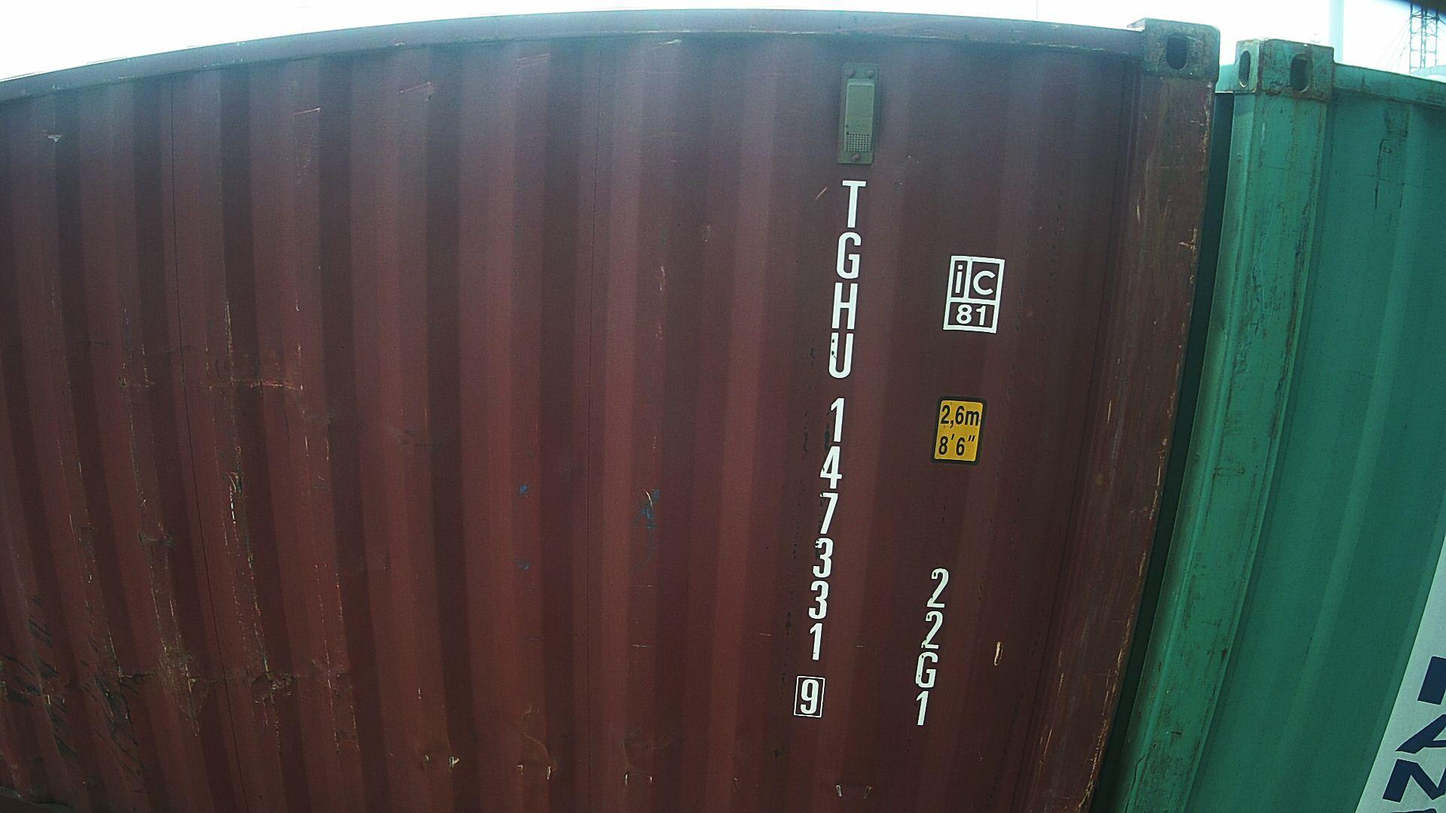container-numbers: (790, 174, 868, 723), (910, 562, 952, 731)
